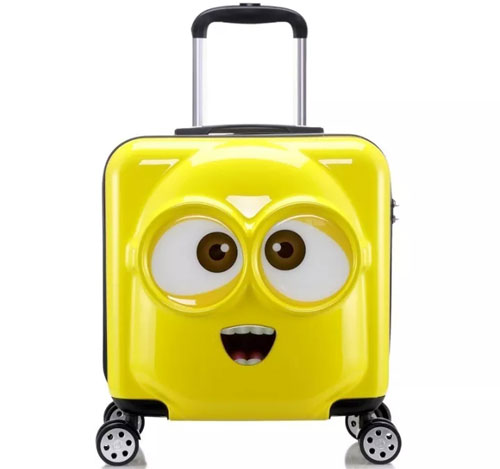luggage: (95, 2, 402, 467)
